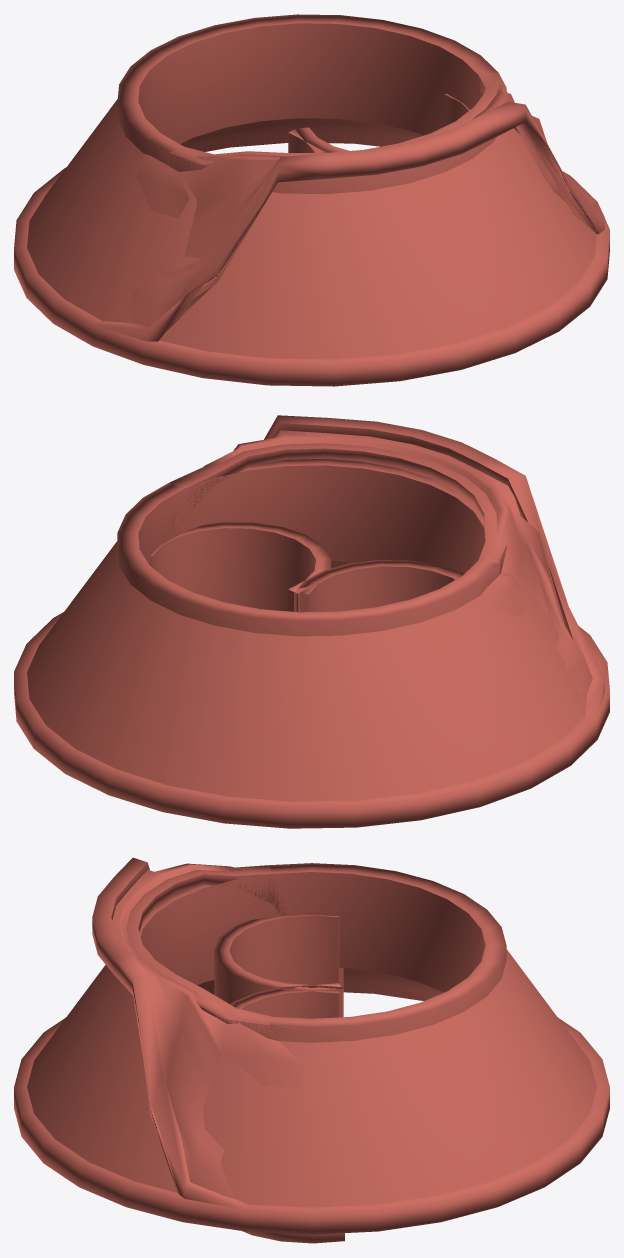
The model's file is box_pleated_skirt.glb.
The picture shows the model from 3 angles, top to bottom: view 1: azimuth 30°, elevation 25°; view 2: azimuth 150°, elevation 25°; view 3: azimuth 270°, elevation 25°; orthographic projection.
Visible parts, largest first — view 1: box_pleated_skirt_Body, box_pleated_skirt_Body_sit, box_pleated_skirt_LegR_sit; view 2: box_pleated_skirt_Body, box_pleated_skirt_Body_sit, box_pleated_skirt_LegR_sit, box_pleated_skirt_LegL_sit; view 3: box_pleated_skirt_Body, box_pleated_skirt_Body_sit, box_pleated_skirt_LegL_sit, box_pleated_skirt_LegR_sit.
Boxes of the visible parts, x1=… form: box_pleated_skirt_Body: x1=14, y1=14, x2=609, y2=386; box_pleated_skirt_Body_sit: x1=93, y1=48, x2=604, y2=341; box_pleated_skirt_LegR_sit: x1=294, y1=93, x2=469, y2=152; box_pleated_skirt_Body: x1=14, y1=458, x2=609, y2=828; box_pleated_skirt_Body_sit: x1=145, y1=415, x2=604, y2=718; box_pleated_skirt_LegR_sit: x1=150, y1=521, x2=331, y2=612; box_pleated_skirt_LegL_sit: x1=294, y1=560, x2=463, y2=612; box_pleated_skirt_Body: x1=14, y1=863, x2=609, y2=1234; box_pleated_skirt_Body_sit: x1=92, y1=857, x2=443, y2=1209; box_pleated_skirt_LegL_sit: x1=214, y1=915, x2=343, y2=1017; box_pleated_skirt_LegR_sit: x1=230, y1=985, x2=344, y2=1243.
Size of the model in its own units: 0.628 by 0.2847 by 0.628.
